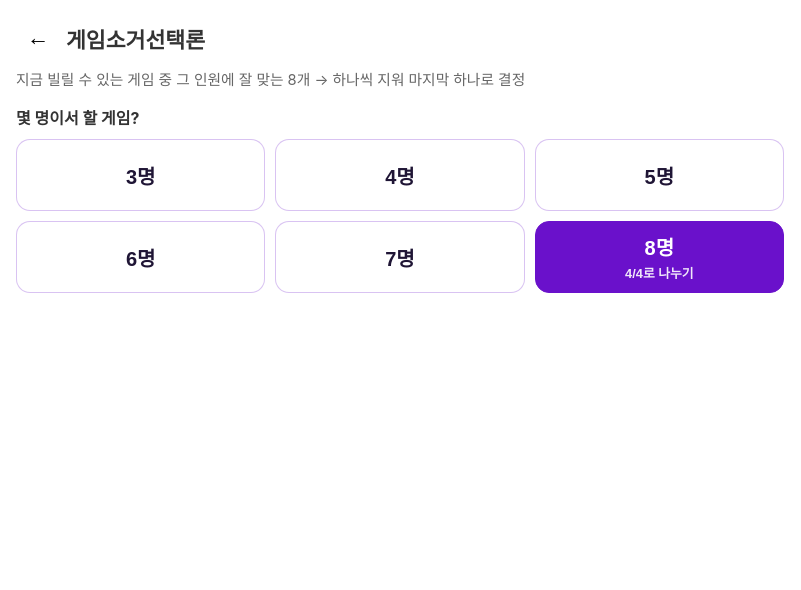
Test: 놀이터 골라 지우기 — verification follow-ups › back arrow returns to the player choice while playing
The width and height of the screenshot is (801, 590).
Click the button "4명" at {"x": 400, "y": 175}, box left=275, top=139, right=525, bottom=211
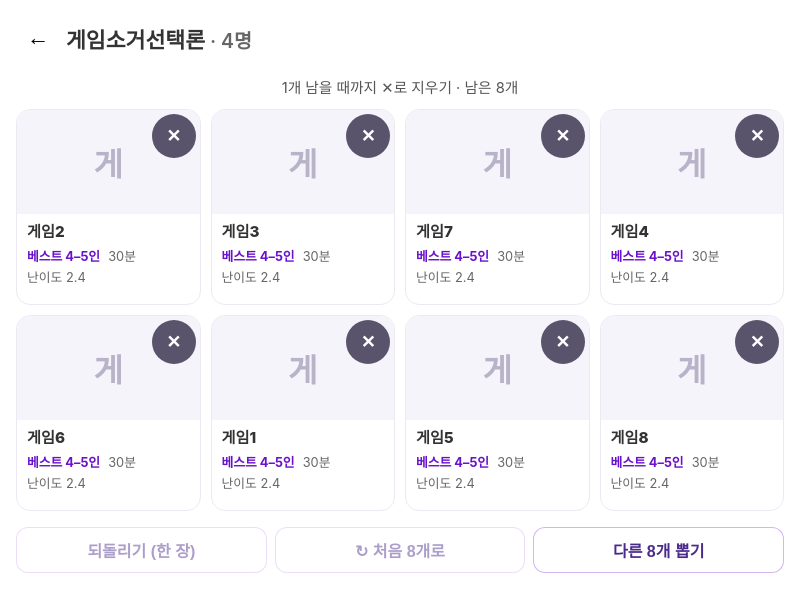
Click the button named "인원 다시 고르기" at {"x": 38, "y": 38}, box left=16, top=16, right=60, bottom=60
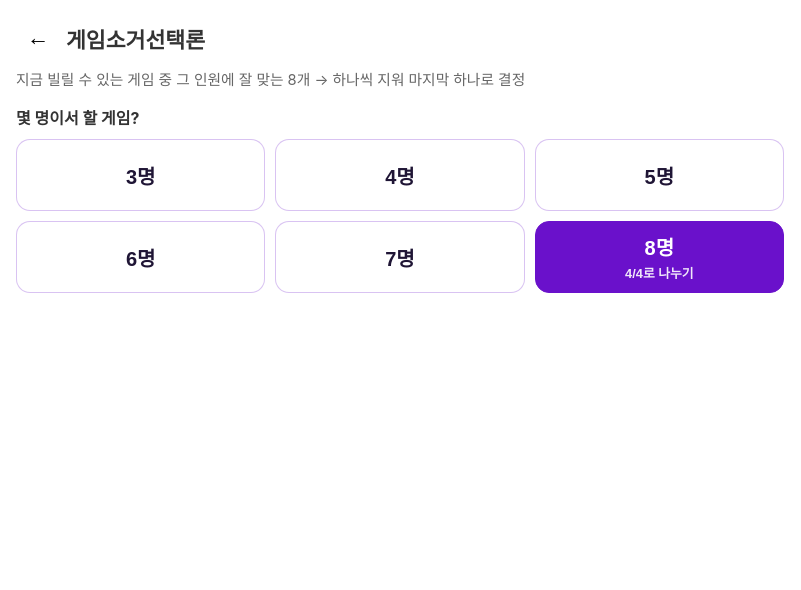
Now the button "3명" is shown, box left=16, top=139, right=265, bottom=211
